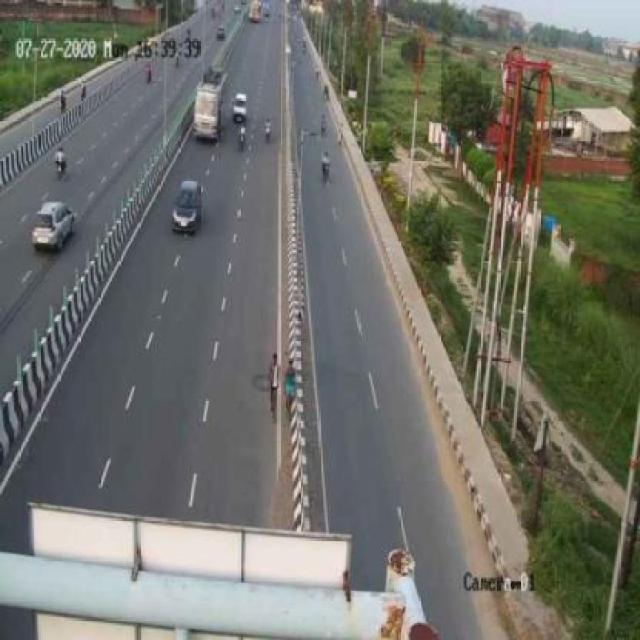car: (177, 185, 205, 232), (231, 86, 254, 123)
